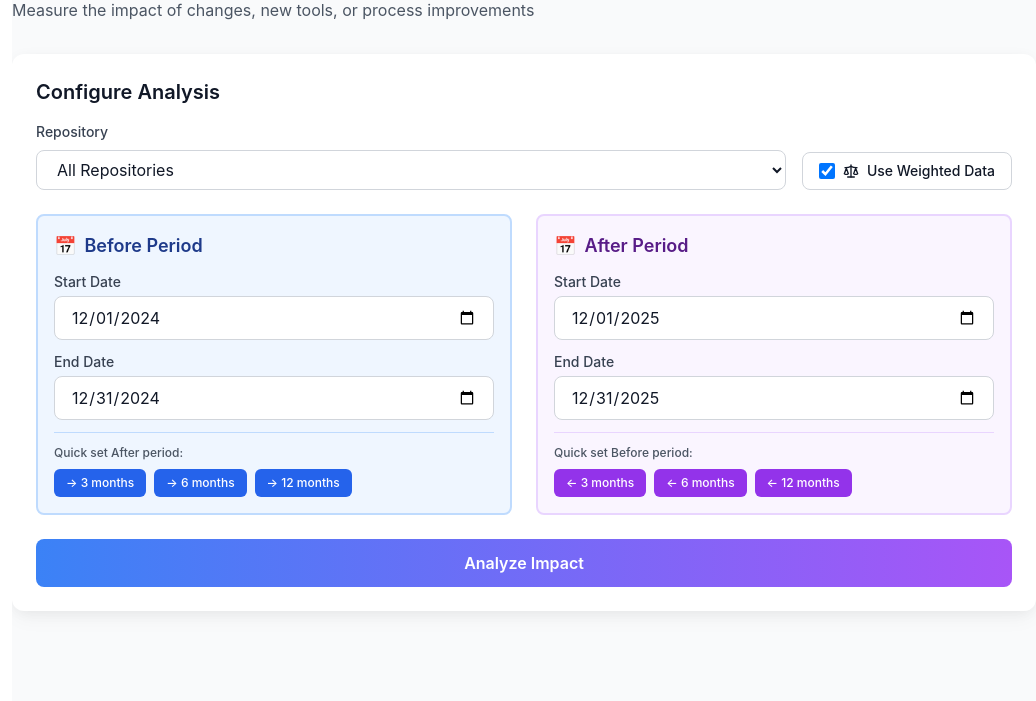
Scenario: BeforeAfter › Weighted Data Toggle › should display total commits value when weighted toggle is off
This screenshot has width=1036, height=701.
// Uncheck the toggle
Click the checkbox at (827, 171), box [819, 163, 835, 179]
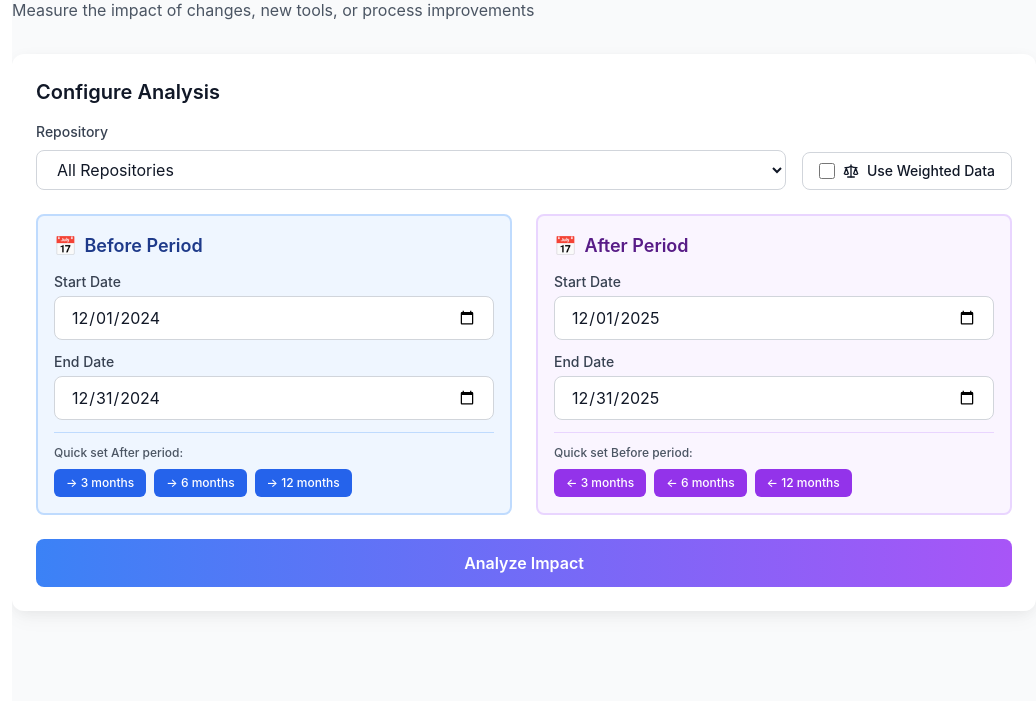
// Click Analyze button
Click the button "Analyze Impact" at (524, 563), box [36, 539, 1012, 587]
(page scrolled)
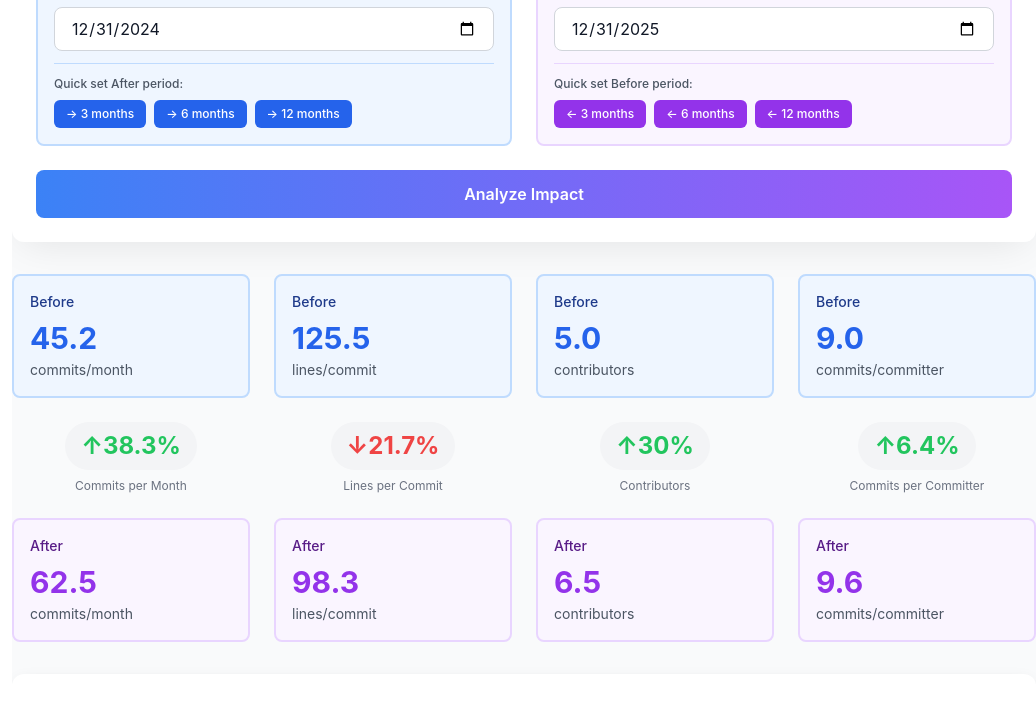
Check: the text "45.2" is shown, box [30, 320, 97, 356]
